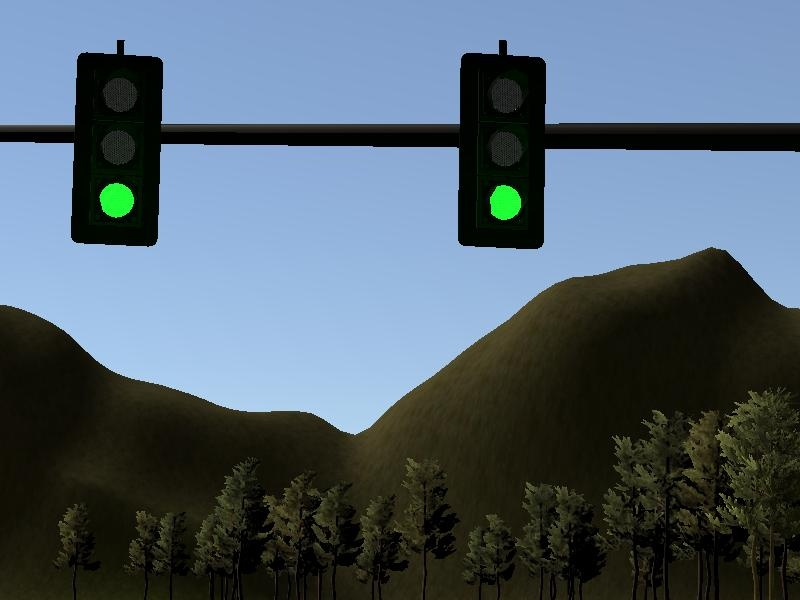GREEN: (457, 51, 545, 249), (73, 50, 161, 248)
